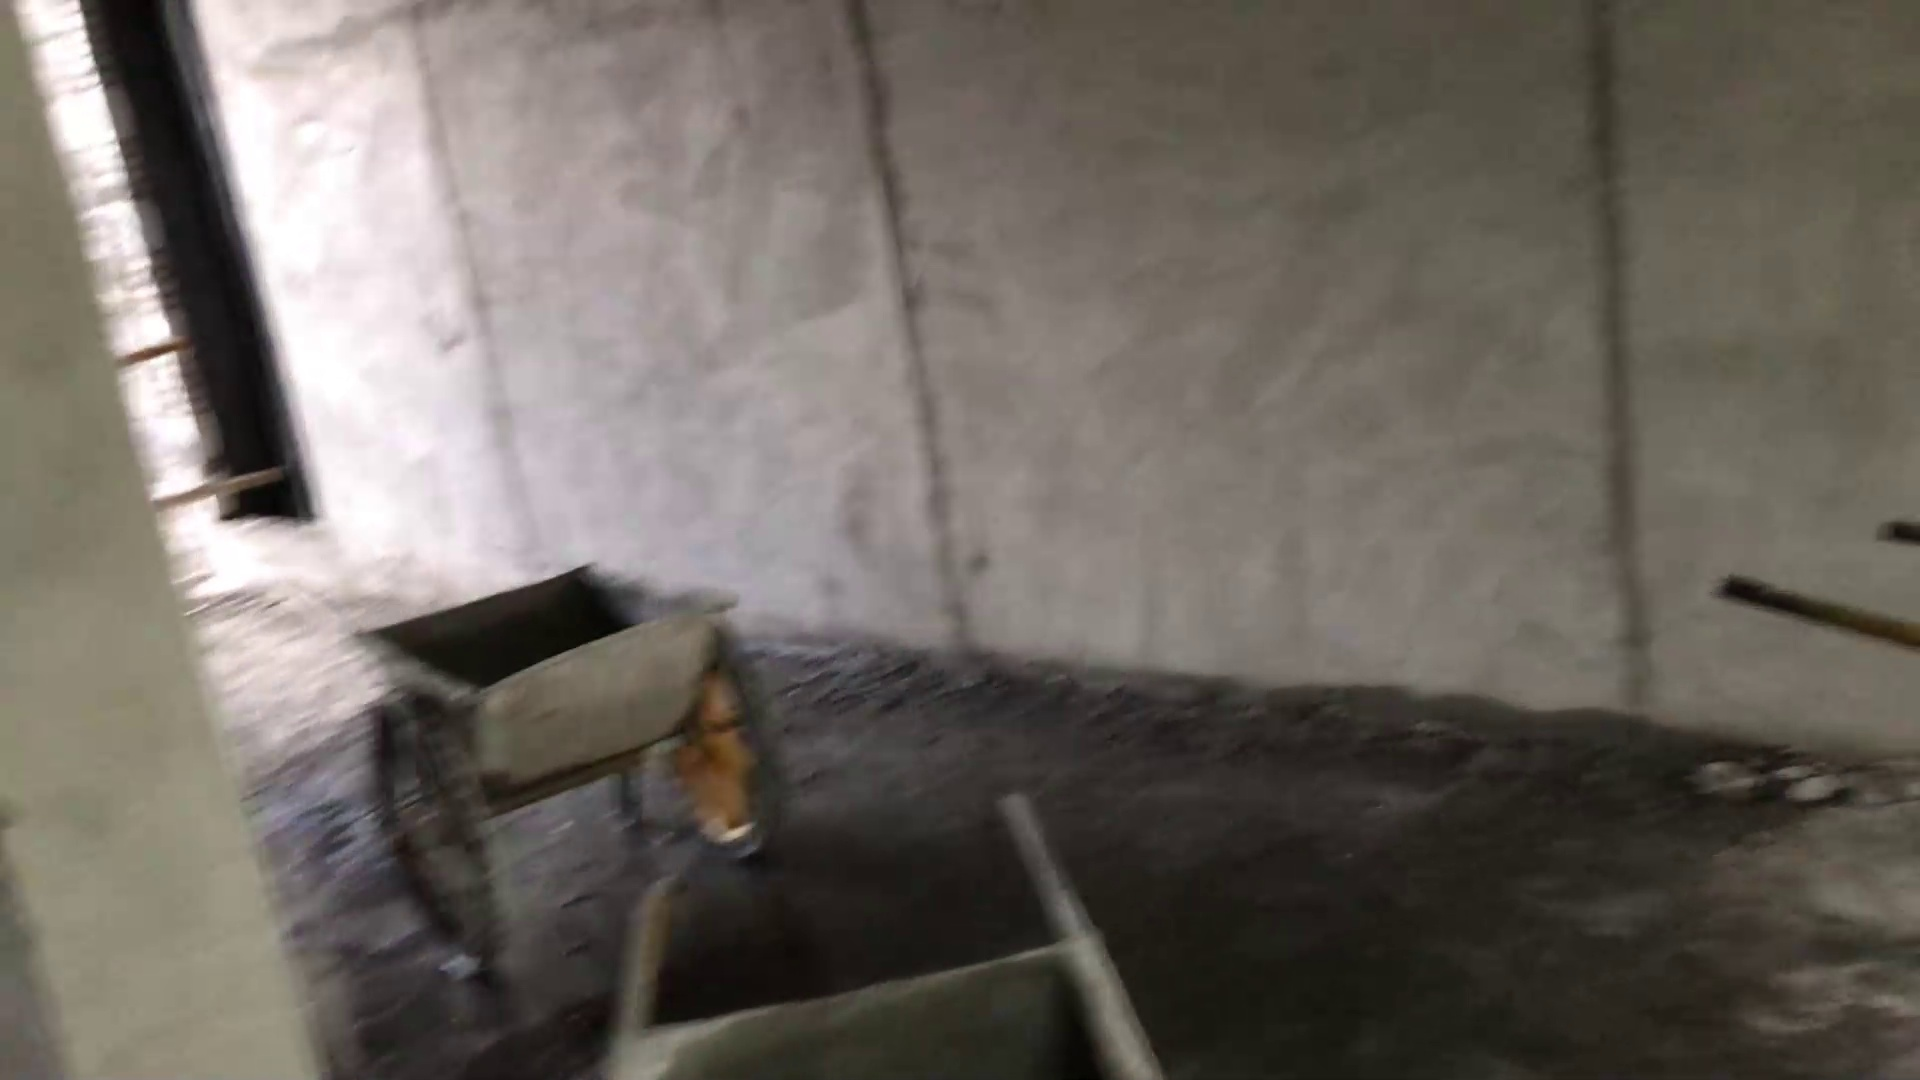handcart: (247, 570, 940, 930), (572, 786, 1221, 1080)
